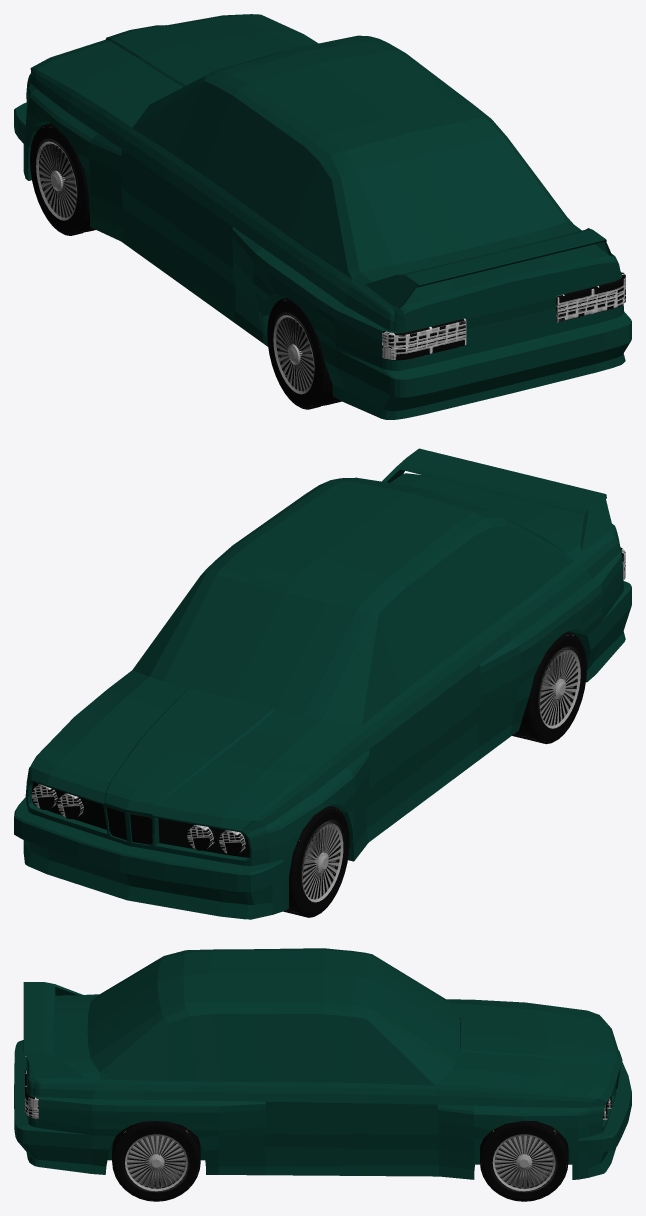
Rendered from Green-BMW-E30.fbx.
3 renders of one model, top to bottom at view 1: azimuth 30°, elevation 25°; view 2: azimuth 150°, elevation 25°; view 3: azimuth 270°, elevation 25°, orthographic. The views are drawn at different scales.
Visible parts, largest first — view 1: Body, BackLeft Wheel, FrontLeft Wheel, Left Rearlight, Right Rearlight; view 2: Body, FrontLeft Wheel, BackLeft Wheel; view 3: Body, BackRight Wheel, FrontRight Wheel.
Boxes of the visible parts, x1,y1,x2,y2 form: Body: [14, 14, 631, 419]; BackLeft Wheel: [267, 297, 341, 409]; FrontLeft Wheel: [30, 123, 95, 235]; Left Rearlight: [382, 318, 466, 360]; Right Rearlight: [556, 272, 625, 322]; Body: [14, 448, 631, 919]; FrontLeft Wheel: [283, 806, 349, 917]; BackLeft Wheel: [512, 632, 586, 744]; Body: [14, 948, 631, 1179]; BackRight Wheel: [112, 1121, 200, 1201]; FrontRight Wheel: [480, 1121, 568, 1201].
Size of the model in its own units: 170 by 433 by 138.
4 materials, 4 textured.
